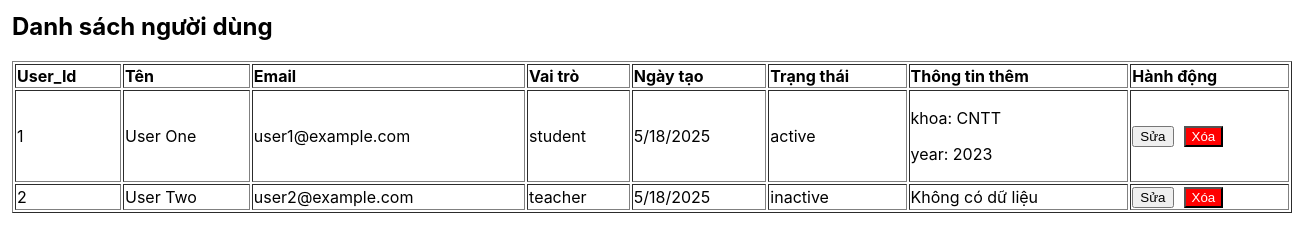
Test: ListUsers › can delete a user
Expected: the text "User One" is shown, [123,90,250,182]
Click the button with test id "delete-button" in the row of "User One".
click(1203, 136)  # box [1184,126,1223,147]
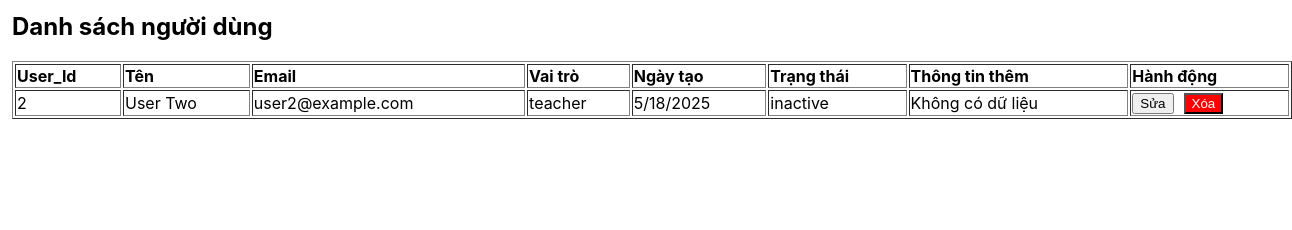
Expected: the text "User One" is gone
